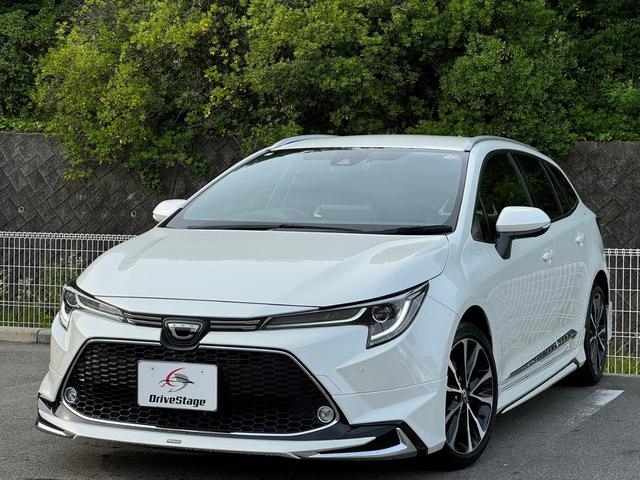car: (32, 127, 616, 472)
